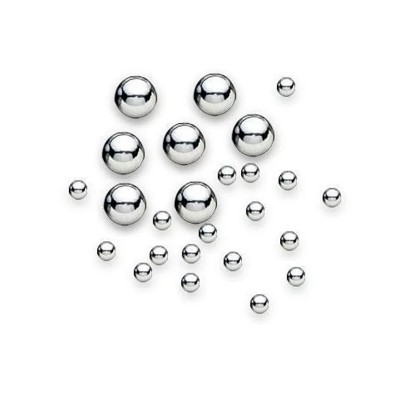ironball: (109, 68, 160, 120), (227, 110, 277, 159), (160, 122, 207, 166), (192, 72, 237, 116), (101, 131, 146, 175), (102, 183, 148, 225), (173, 180, 216, 223), (276, 167, 301, 193), (277, 228, 302, 253), (92, 238, 117, 263), (177, 269, 203, 293), (214, 160, 237, 187), (319, 184, 343, 209), (237, 160, 262, 184), (247, 291, 271, 316), (273, 75, 296, 98), (244, 199, 267, 222), (64, 179, 89, 200), (181, 239, 202, 264), (146, 241, 168, 264), (133, 259, 153, 284), (194, 224, 221, 242), (150, 208, 171, 231), (283, 266, 307, 286), (223, 248, 242, 270)
